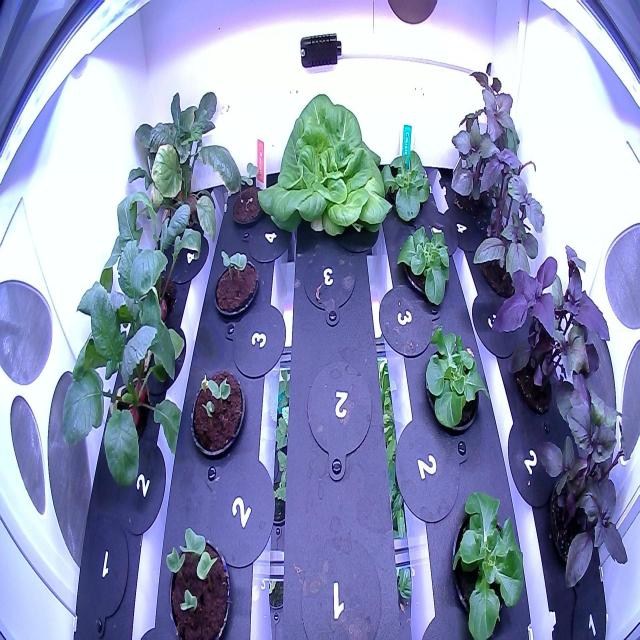Ready: (252, 88, 398, 252)
empty_pod: (294, 529, 384, 638), (304, 352, 375, 484), (76, 512, 133, 629), (296, 234, 359, 330)
germination: (160, 522, 234, 636), (186, 366, 247, 464), (209, 242, 262, 332), (229, 158, 270, 228)
